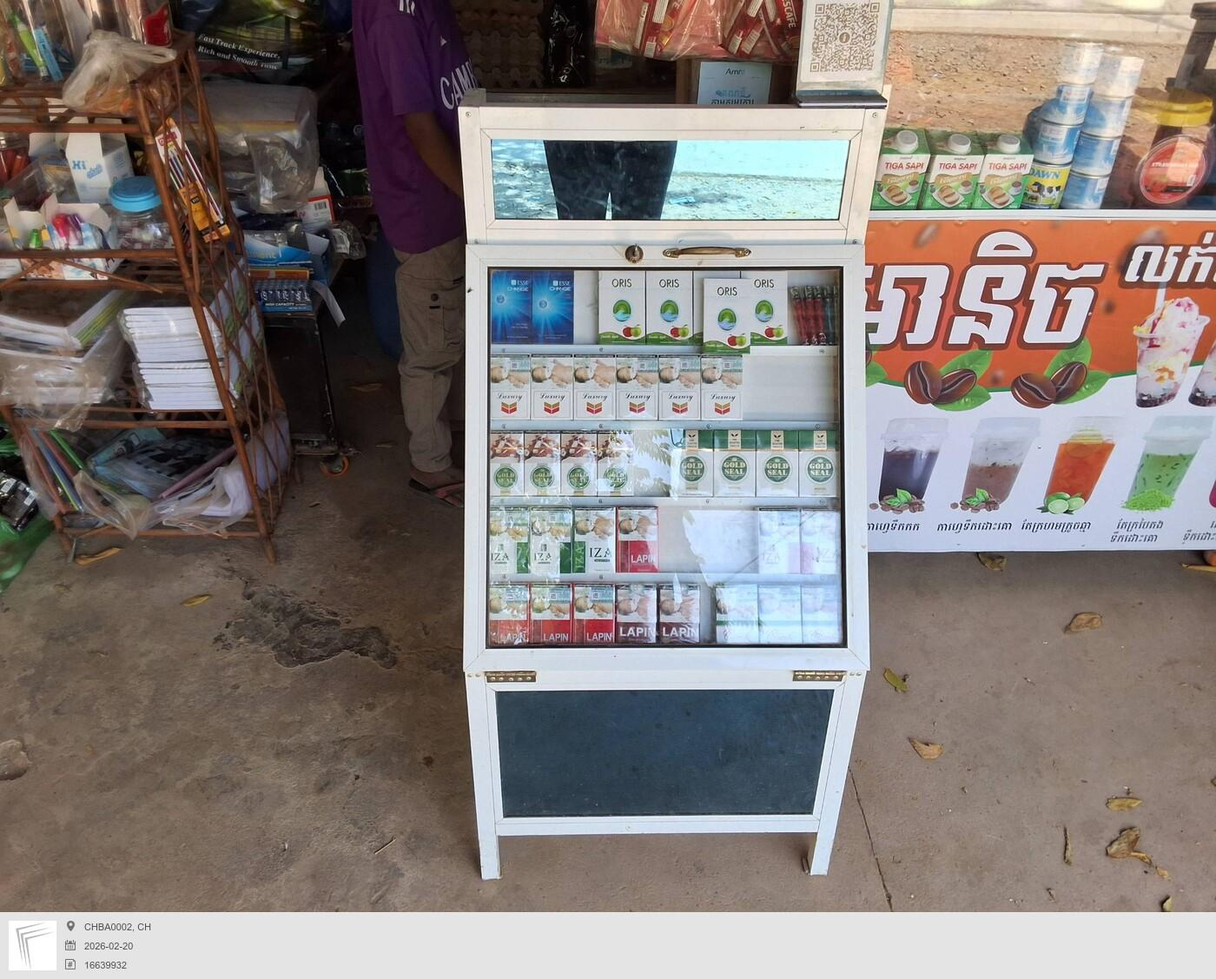cigarette_pack: (465, 214, 871, 884), (1059, 55, 1143, 211), (1017, 84, 1094, 209), (592, 267, 650, 347), (738, 267, 790, 346), (699, 278, 750, 355), (527, 498, 576, 577), (646, 267, 692, 348), (487, 269, 537, 343), (529, 269, 576, 346), (528, 348, 576, 422), (575, 499, 622, 574), (531, 579, 580, 648), (799, 503, 842, 577), (571, 349, 615, 421), (796, 427, 839, 499), (485, 352, 531, 419), (757, 505, 799, 577), (701, 354, 748, 418), (615, 505, 657, 575), (670, 429, 713, 497), (712, 428, 754, 496), (754, 429, 796, 496), (487, 431, 527, 499), (755, 582, 797, 646), (613, 353, 655, 416), (493, 508, 532, 575), (596, 431, 639, 491), (658, 352, 698, 415), (803, 582, 843, 644), (491, 585, 530, 648), (526, 431, 561, 501), (576, 580, 616, 640), (564, 432, 599, 496), (616, 584, 653, 644), (711, 584, 752, 638), (659, 588, 703, 636)
